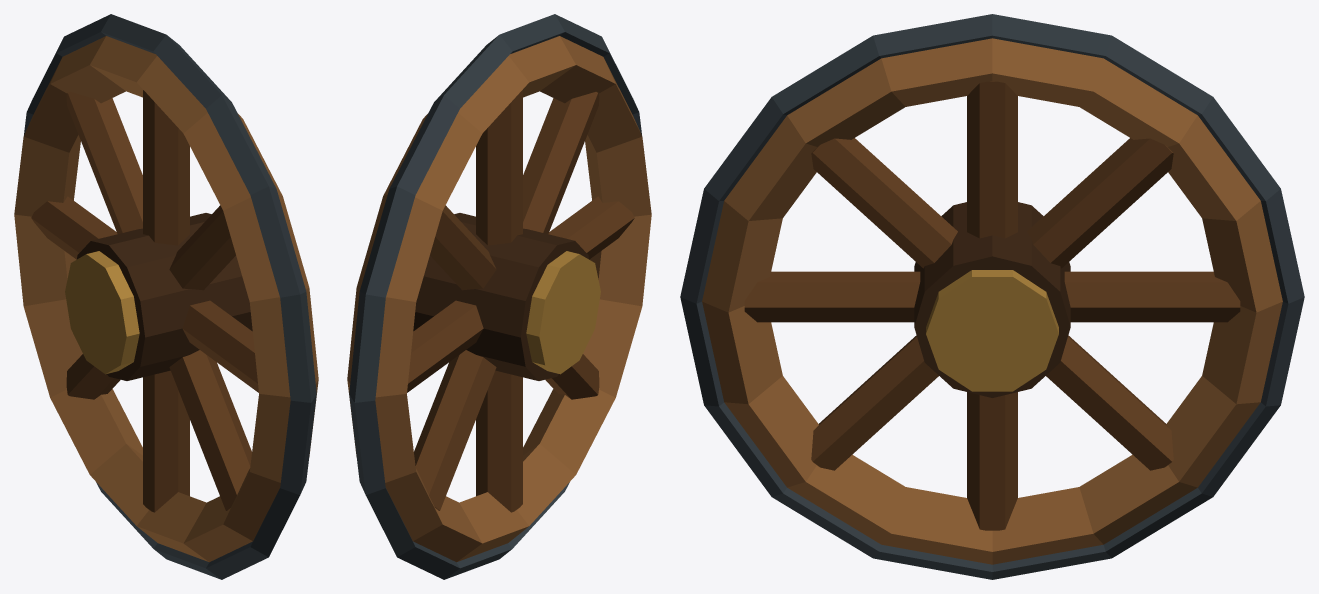
Rendered from WheelLeftFront.glb.
3 views of the same model, side by side, from view 1: azimuth 30°, elevation 25°; view 2: azimuth 150°, elevation 25°; view 3: azimuth 270°, elevation 25° (orthographic). The views are drawn at different scales.
Visible parts, largest first — view 1: Sculpture; view 2: Sculpture; view 3: Sculpture.
Part boxes in pixels (x1,y1,x2,y2): Sculpture: (14, 14, 318, 579); Sculpture: (347, 14, 651, 579); Sculpture: (680, 14, 1304, 579).
Size of the model in its own units: 0.27 by 0.958 by 0.958.
